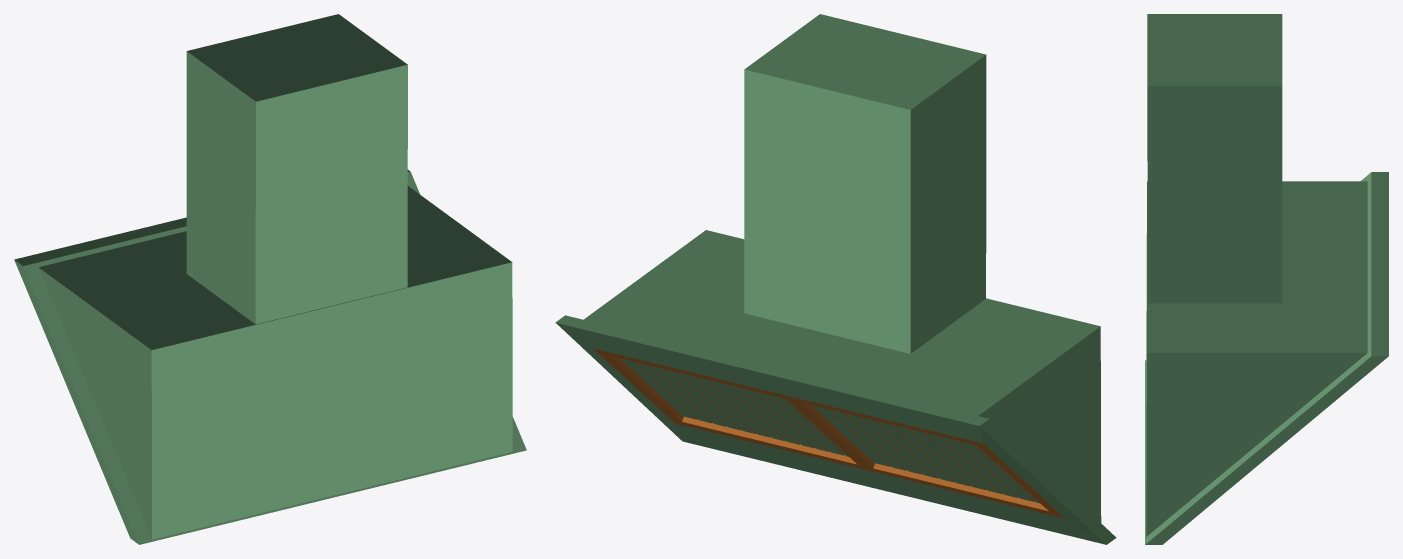
Rendered from Range Hood 3.fbx.
3 renders of one model, left to right at view 1: azimuth 30°, elevation 25°; view 2: azimuth 150°, elevation 25°; view 3: azimuth 270°, elevation 25°, orthographic. The views are drawn at different scales.
Visible parts, largest first — view 1: Node 0; view 2: Node 0; view 3: Node 0.
Part boxes in pixels (left/top/right/bottom): Node 0: left=14, top=14, right=526, bottom=544; Node 0: left=555, top=14, right=1116, bottom=544; Node 0: left=1145, top=14, right=1388, bottom=544.
Bounding box in the file's own units: 0.7091 × 1.29 × 1.27.
